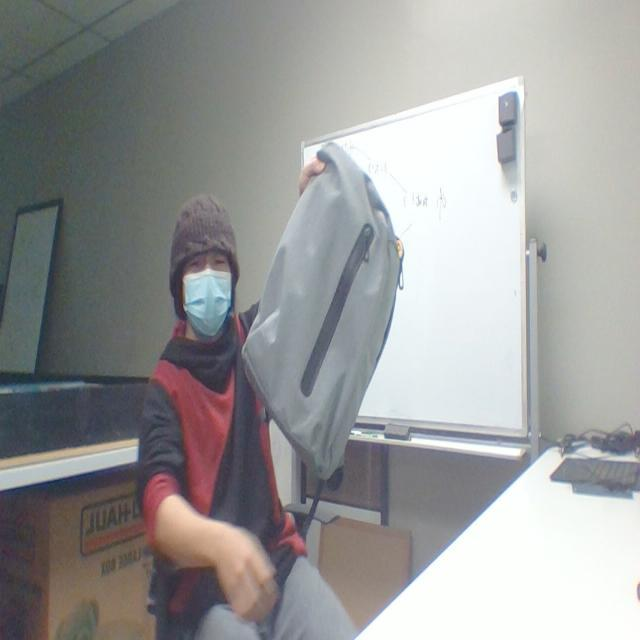Backpacks: (244, 146, 404, 468)
